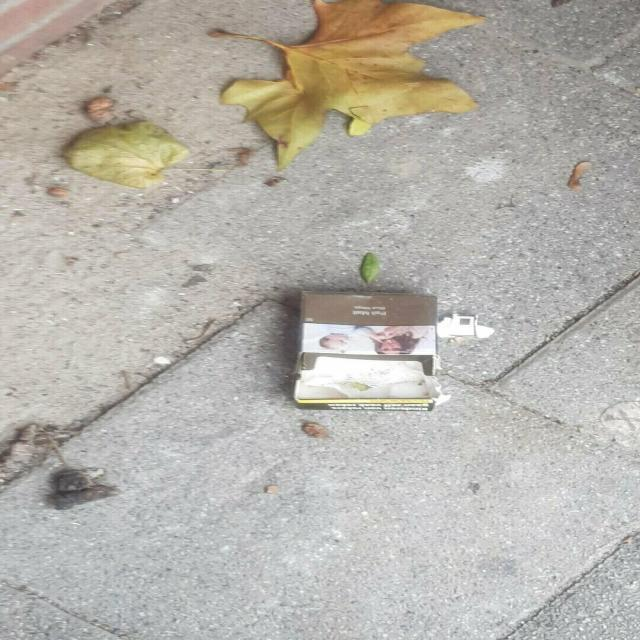Paper: (289, 288, 442, 414)
